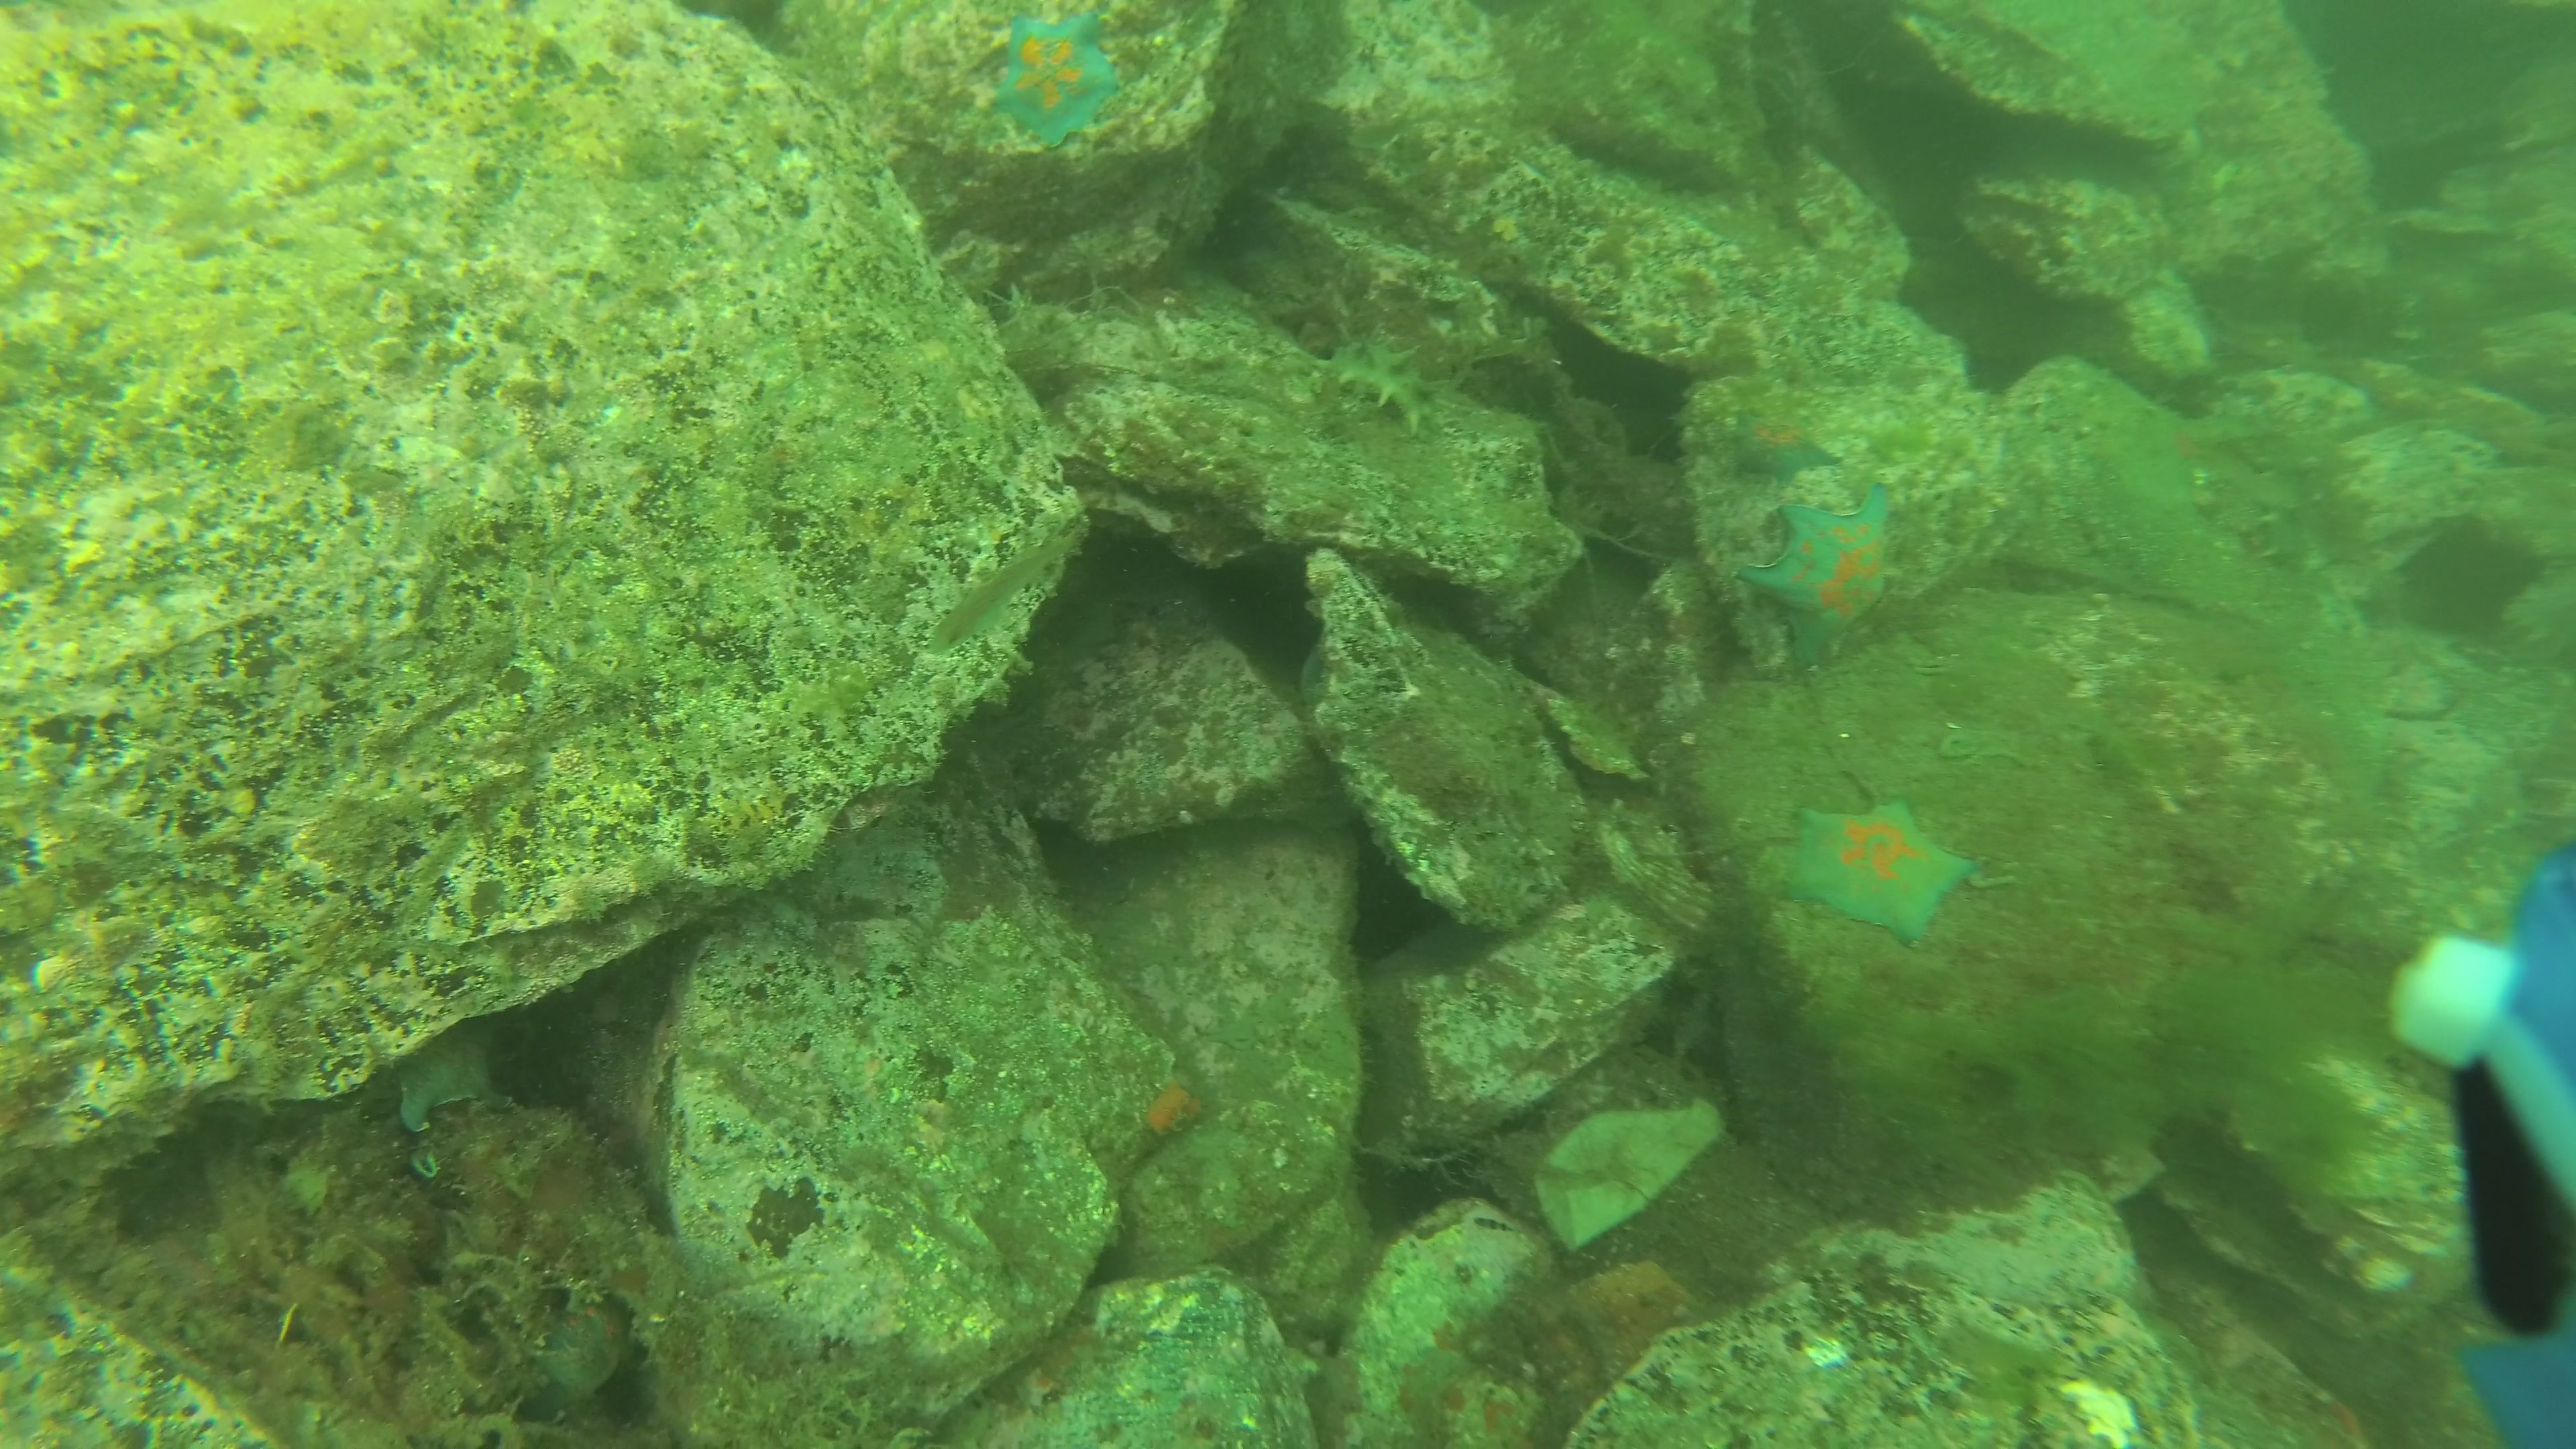holothurian: (1311, 315, 1454, 441)
starfish: (1782, 791, 1982, 957), (1736, 481, 1902, 671), (978, 7, 1134, 163)
